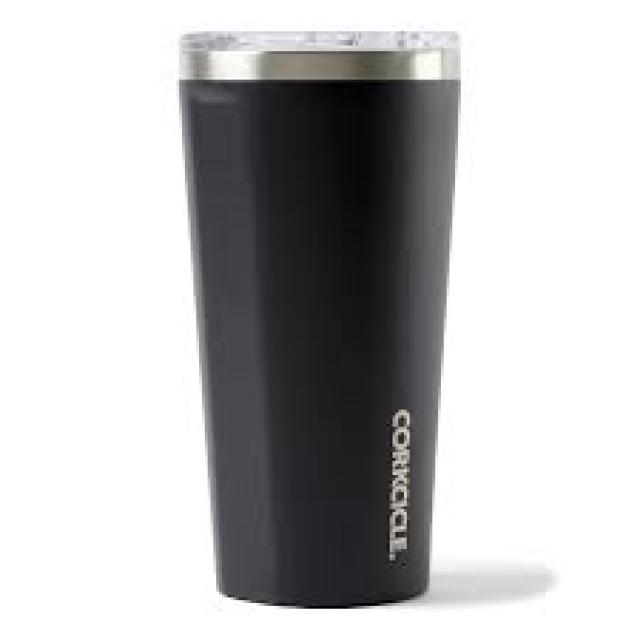bottle: (180, 30, 463, 611)
